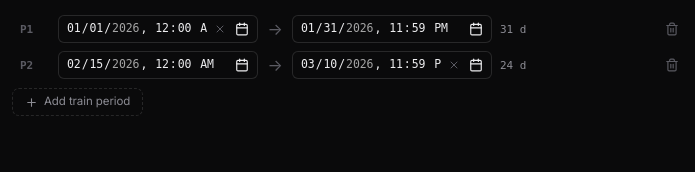
Test: TimePeriodsEditor — adding and committing › a half-typed date (the field reports "") is never handed up: the row is named as pending, and blur puts the committed date back
Clear the field named "P2 end" at (367, 65), box x1=293 y1=52 x2=441 y2=78
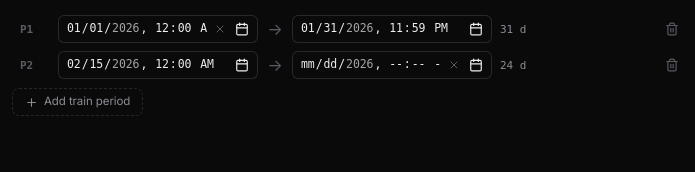
Expected: the text with test id "period-days-2" reads "24 d", x1=500 y1=58 x2=526 y2=72
Leave the field named "P2 end", box x1=293 y1=52 x2=441 y2=78
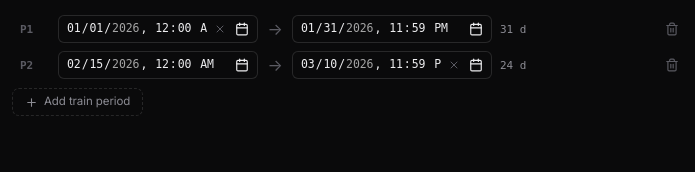
Result: the field named "P2 end" holds "2026-03-10T23:59" at x1=293 y1=52 x2=441 y2=78
